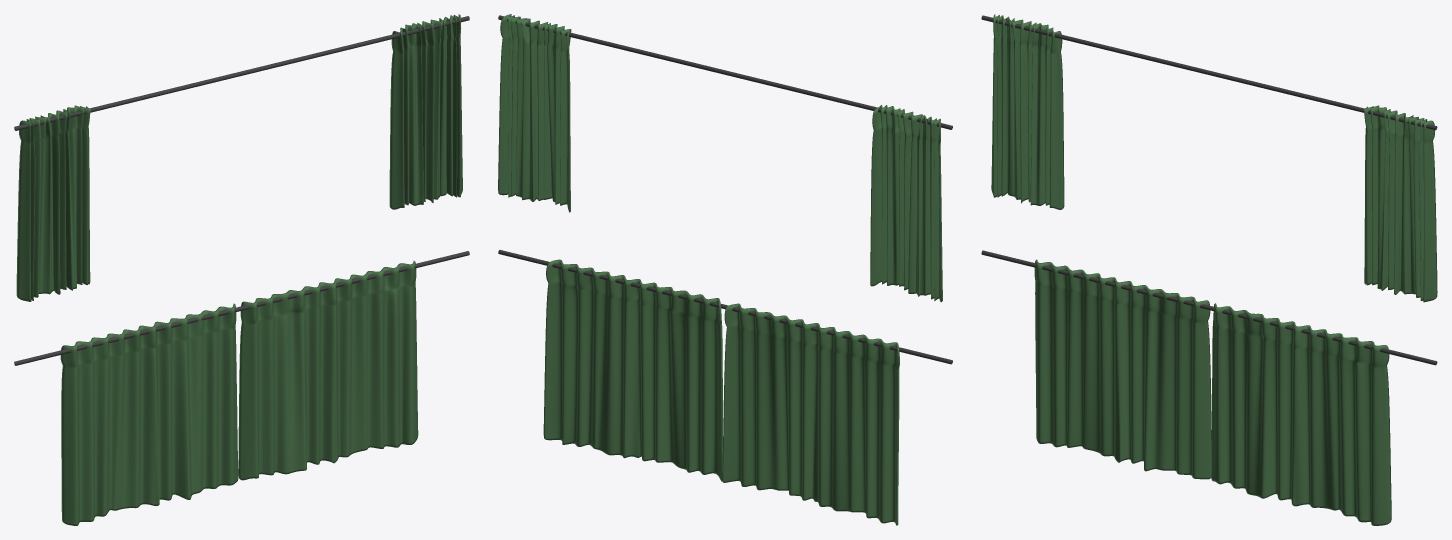
The model's file is curtains 8.2.2.fbx.
3 views of the same model, side by side, from view 1: azimuth 30°, elevation 25°; view 2: azimuth 150°, elevation 25°; view 3: azimuth 330°, elevation 25° (orthographic).
Visible parts, largest first — view 1: Plane.001, Plane, Plane.003, Plane.002, Cylinder.001, Cylinder; view 2: Plane.001, Plane, Plane.002, Plane.003, Cylinder.001, Cylinder; view 3: Plane.001, Plane, Plane.002, Plane.003, Cylinder.001, Cylinder.
Part boxes in pixels (x1=…): Plane.001: x1=238, y1=261, x2=418, y2=480; Plane: x1=60, y1=303, x2=238, y2=525; Plane.003: x1=16, y1=105, x2=90, y2=301; Plane.002: x1=389, y1=14, x2=462, y2=209; Cylinder.001: x1=14, y1=16, x2=469, y2=130; Cylinder: x1=14, y1=251, x2=469, y2=365; Plane.001: x1=543, y1=259, x2=722, y2=481; Plane: x1=722, y1=303, x2=899, y2=525; Plane.002: x1=498, y1=14, x2=571, y2=212; Plane.003: x1=870, y1=105, x2=942, y2=302; Cylinder.001: x1=498, y1=15, x2=952, y2=129; Cylinder: x1=498, y1=250, x2=952, y2=364; Plane.001: x1=1211, y1=303, x2=1391, y2=525; Plane: x1=1034, y1=259, x2=1211, y2=479; Plane.002: x1=1364, y1=105, x2=1437, y2=302; Plane.003: x1=991, y1=14, x2=1064, y2=209; Cylinder.001: x1=981, y1=15, x2=1437, y2=130; Cylinder: x1=981, y1=250, x2=1437, y2=365.
Bounding box in the file's own units: 875 × 768 × 34.86.
